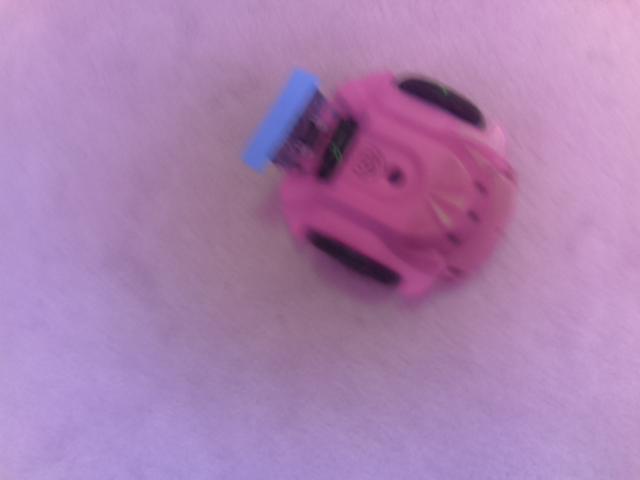board: (229, 67, 339, 166)
chassis: (234, 58, 527, 304)
